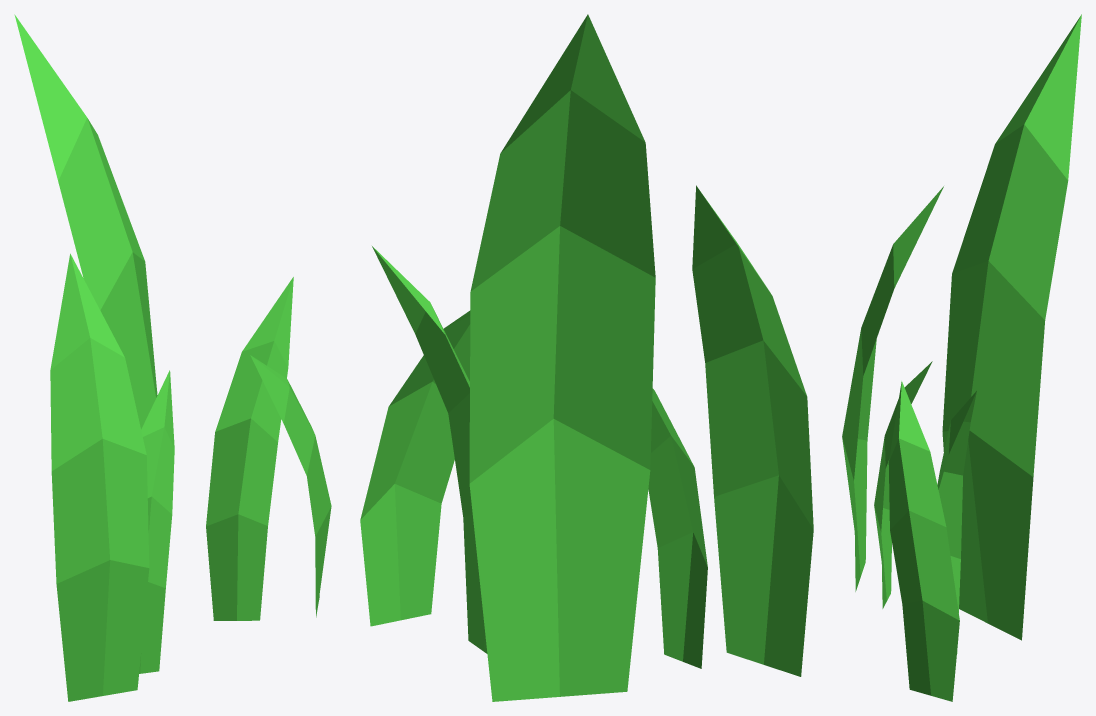
The model's file is grass01.fbx.
3 renders of one model, left to right at view 1: azimuth 30°, elevation 25°; view 2: azimuth 150°, elevation 25°; view 3: azimuth 270°, elevation 25°, orthographic. The views are drawn at different scales.
Visible parts, largest first — view 1: grass01; view 2: grass01; view 3: grass01.
Boxes of the visible parts, left/top/right/bottom form: grass01: left=14, top=14, right=331, bottom=701; grass01: left=360, top=14, right=813, bottom=701; grass01: left=842, top=14, right=1081, bottom=701.
Bounding box in the file's own units: 27.5 × 50.06 × 18.88.
